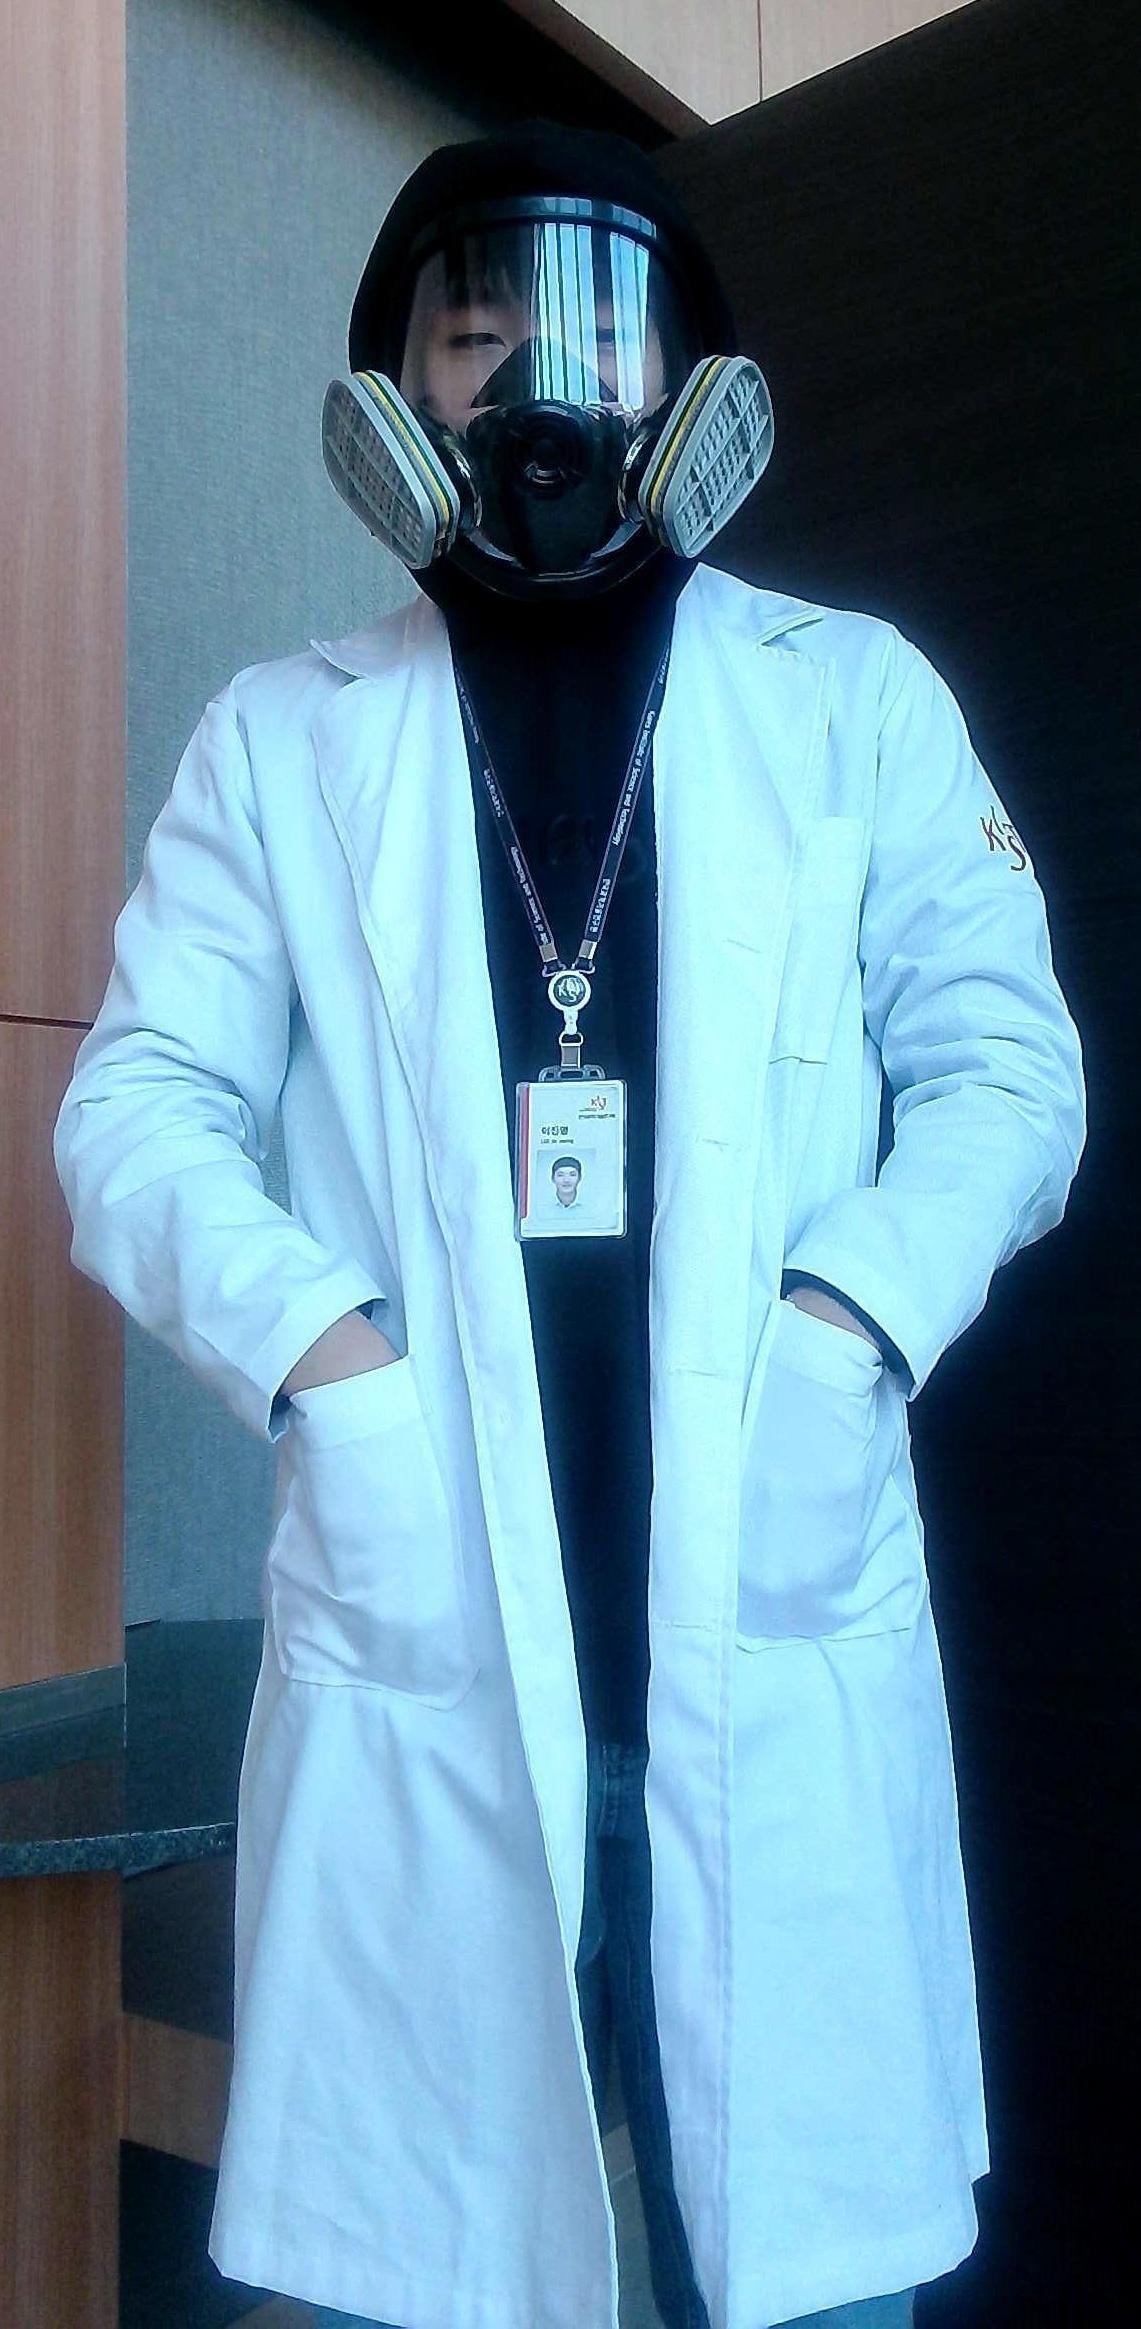lab_coat: (65, 665, 1028, 2329)
